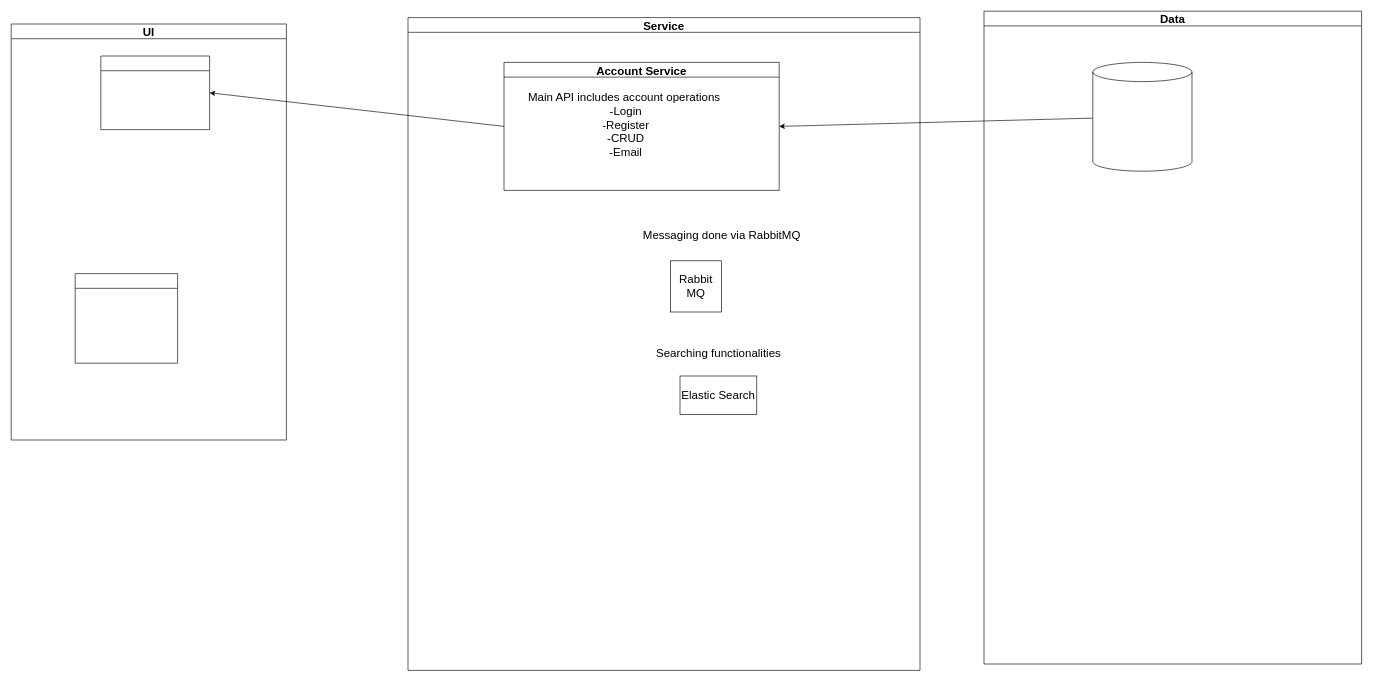
This 1373x682 diagram has some shape labels left out. Here are the shapes that lost their labels. From the top down, the centre of each, then its label:
pixel 155 92: Web Front
pixel 1142 116: User Skill DB
pixel 126 318: Mobile Front
